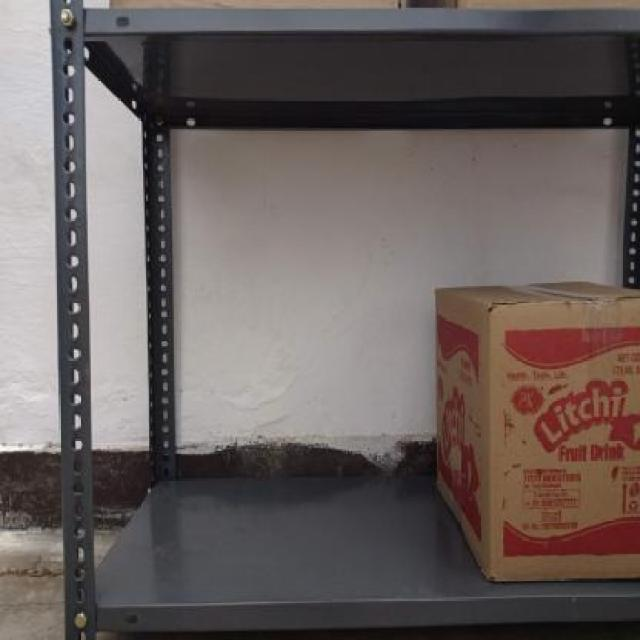box: (486, 302, 640, 582)
